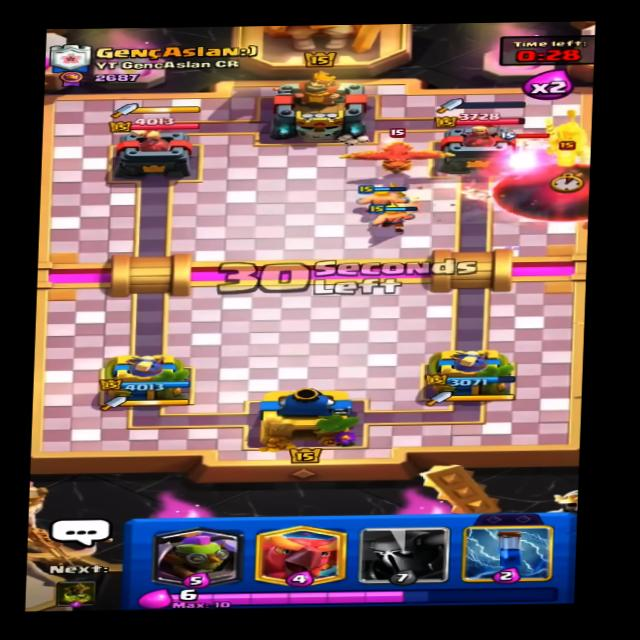Pheonix: (338, 132, 449, 181)
Prince: (532, 107, 614, 171)
